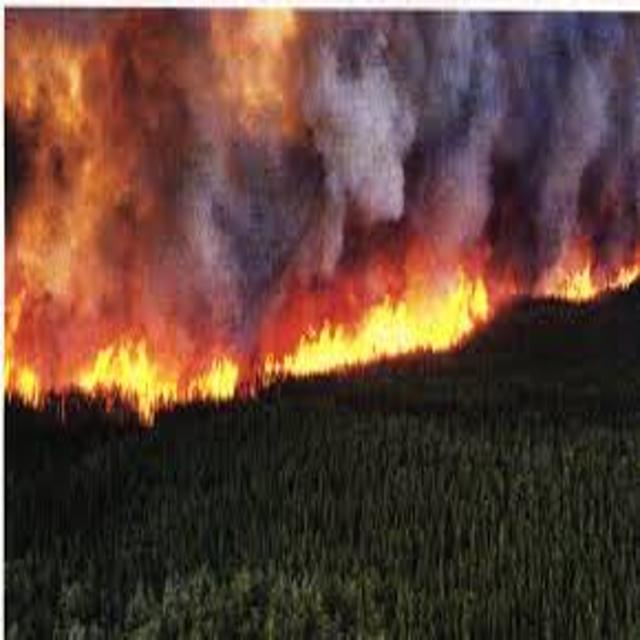Fire: (4, 336, 345, 427), (338, 277, 508, 387), (512, 235, 640, 311)
Smoke: (7, 3, 640, 232), (6, 232, 519, 332)
